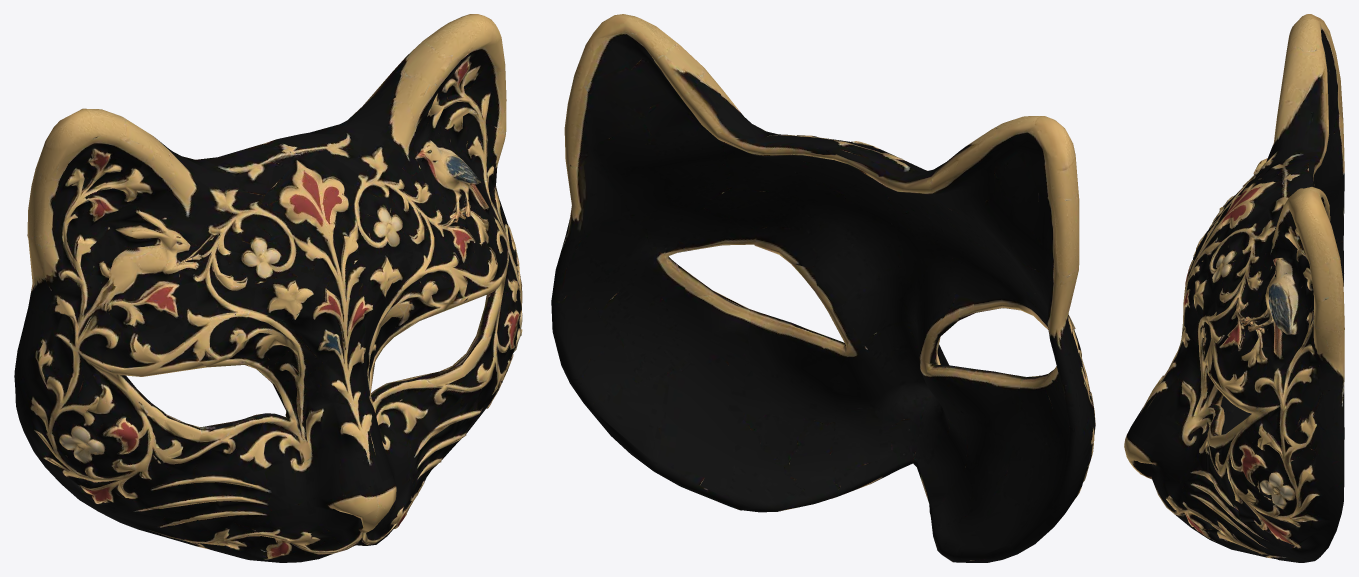
3 renders of one model, left to right at view 1: azimuth 30°, elevation 25°; view 2: azimuth 150°, elevation 25°; view 3: azimuth 270°, elevation 25°, orthographic. The views are drawn at different scales.
Size of the model in its own units: 1.9 by 1.66 by 0.7976.
Materials: 1 (1 with a texture image).
